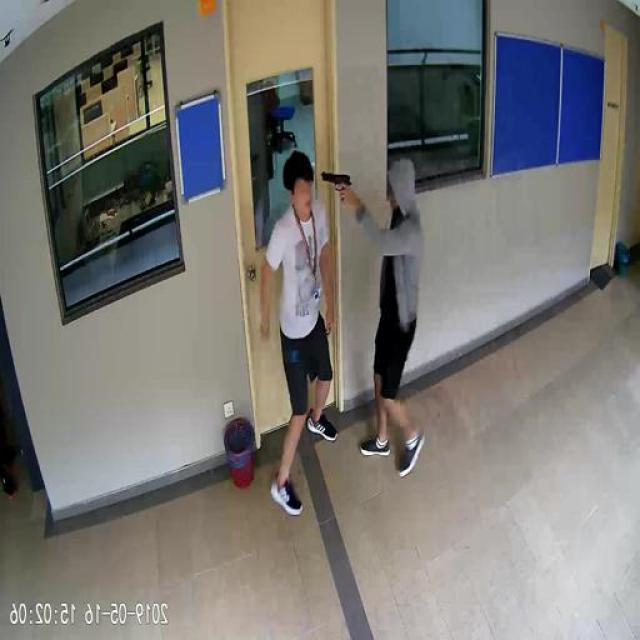Gun: (323, 172, 352, 206)
